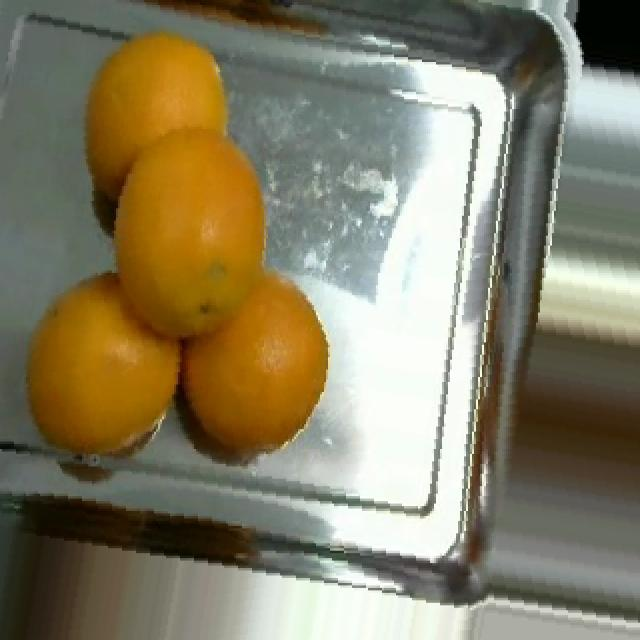Good_Orange: (114, 129, 266, 342), (26, 273, 180, 456), (180, 273, 328, 459), (84, 32, 228, 206)
